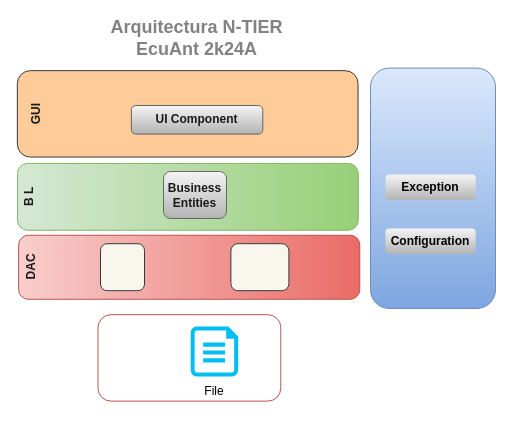
Some shapes in this 514 by 424 pixel diagram are drawn without their labels. Here are the shapes that lost their labels. From the top down, the box of each, then its label:
(370, 67, 496, 308): Framework
(100, 243, 144, 291): DAO
(230, 243, 289, 291): DTO
(97, 314, 281, 401): Data Sources
